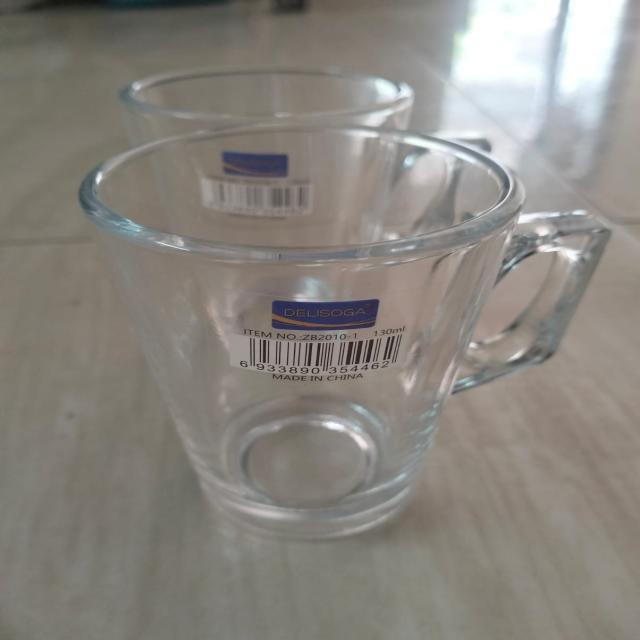glass-VX4N: (69, 128, 640, 536), (104, 46, 526, 327)
